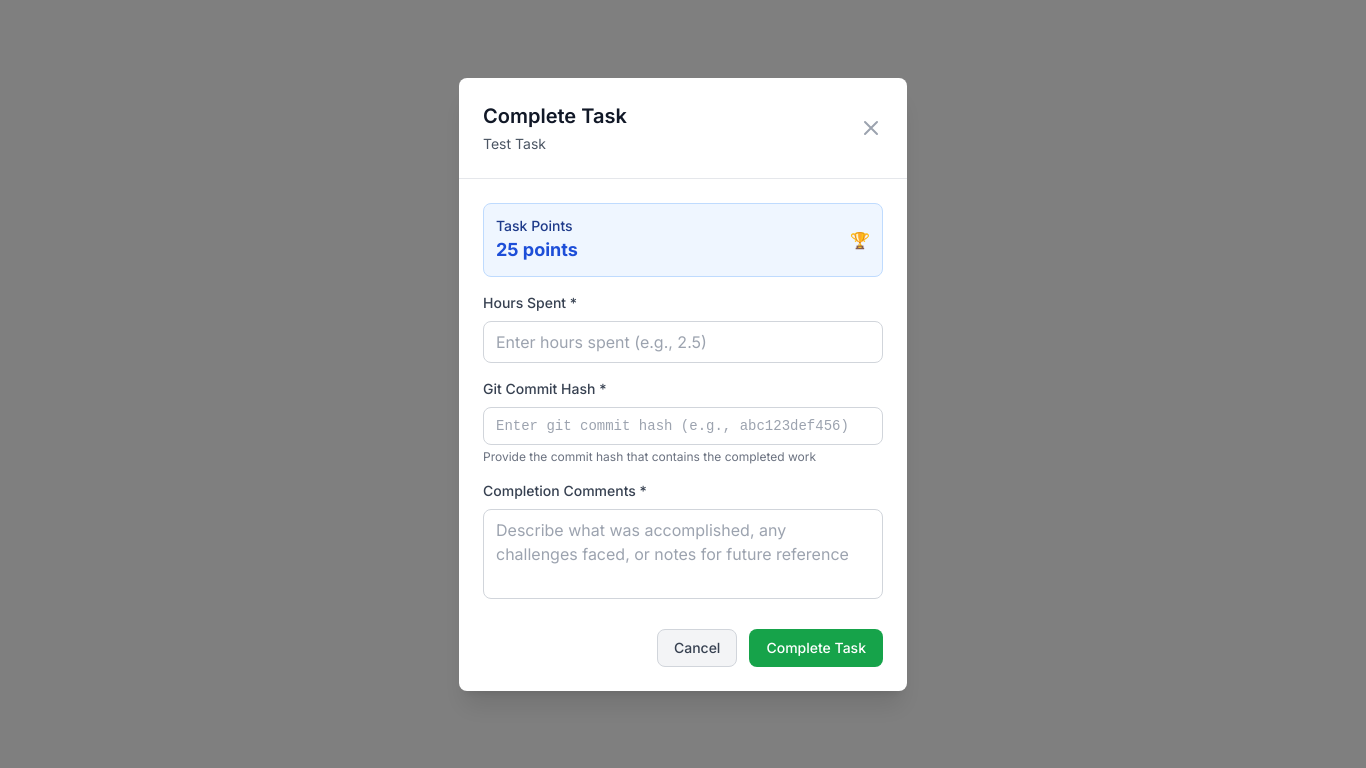
Test: CompleteTaskModal › Form Validation › displays validation errors for invalid form
Click the button "Complete Task": click(816, 648) [749, 628, 883, 666]
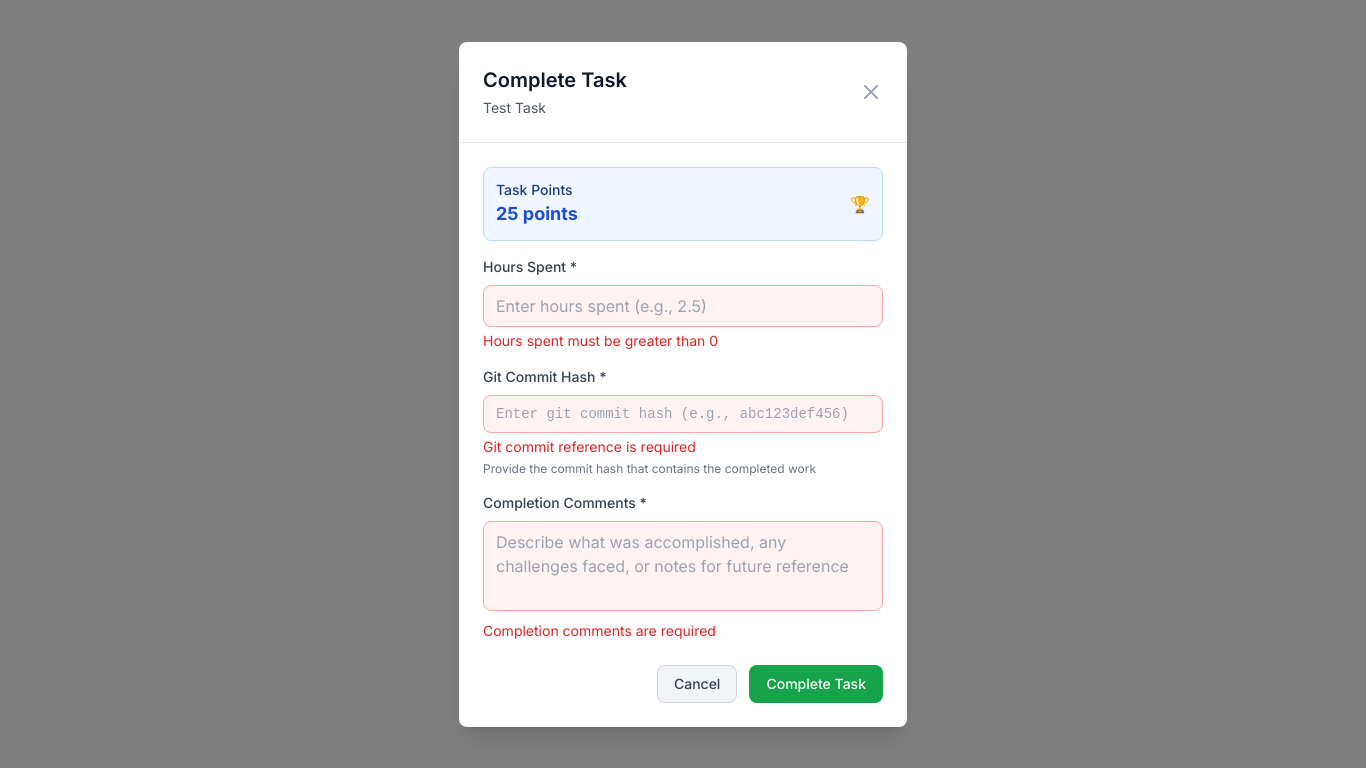
Check: the text "Hours spent must be greater than 0" is shown, box [483, 332, 718, 348]
Check: the text "Git commit reference is required" is shown, box [483, 438, 696, 454]
Check: the text "Completion comments are required" is shown, box [483, 622, 716, 638]
